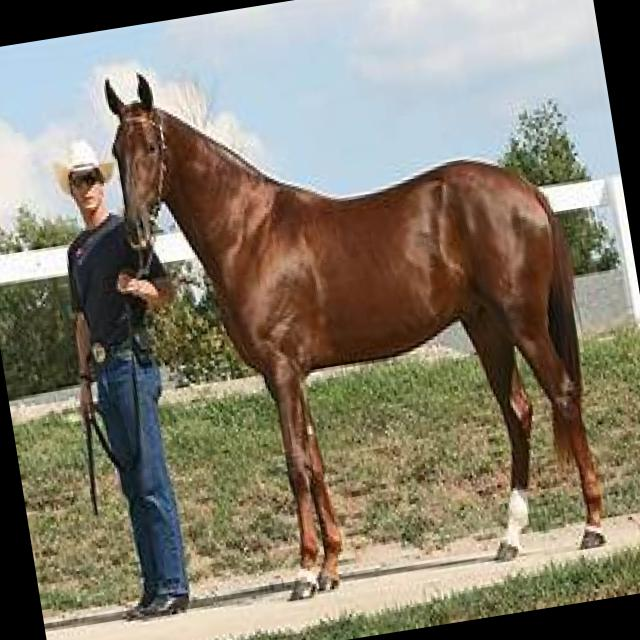animal: (98, 0, 633, 602)
